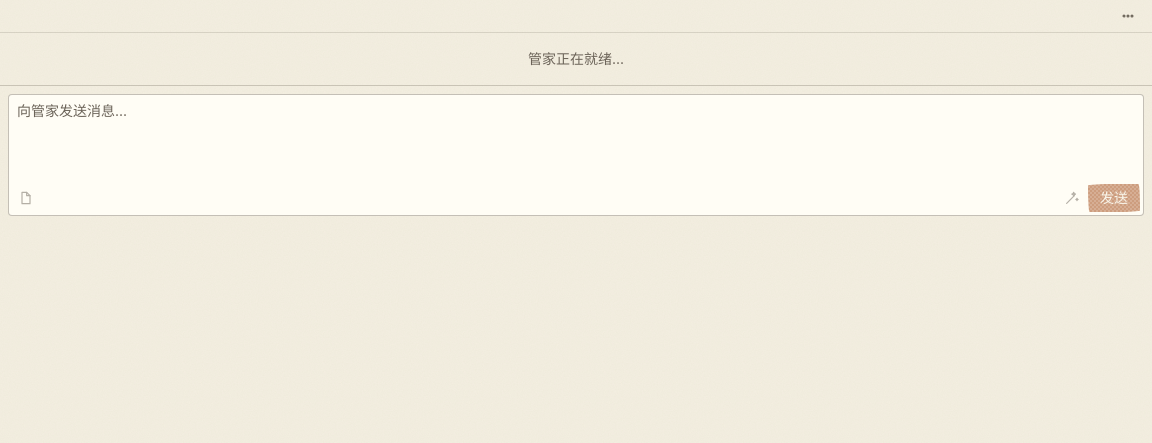
StewardChat v2 — config proposal card › confirm applies the config change and reflects the applied state
Type "把温度调到 0.7" into the text box with placeholder "向管家发送消息..." at (576, 155), box [8, 94, 1144, 216]
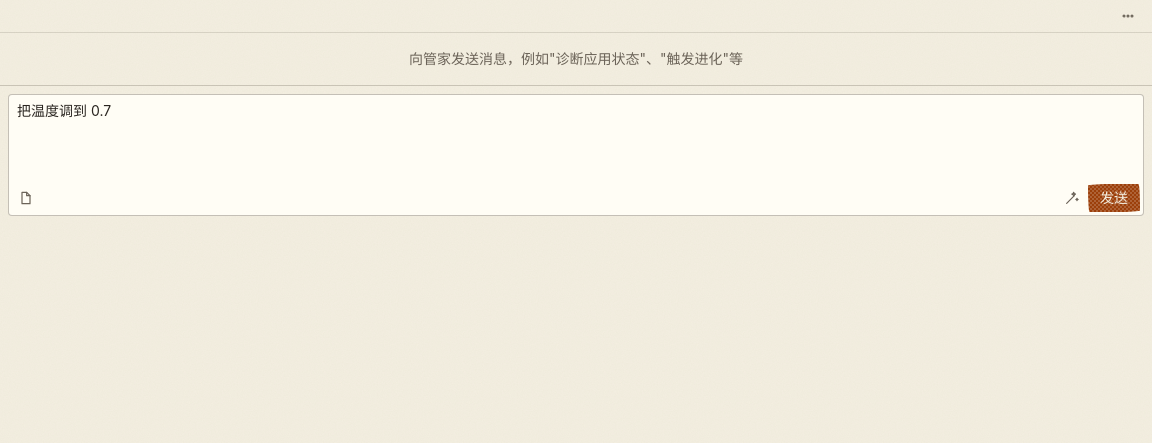
Click the button "发送" at (1114, 198), box [1088, 184, 1140, 212]
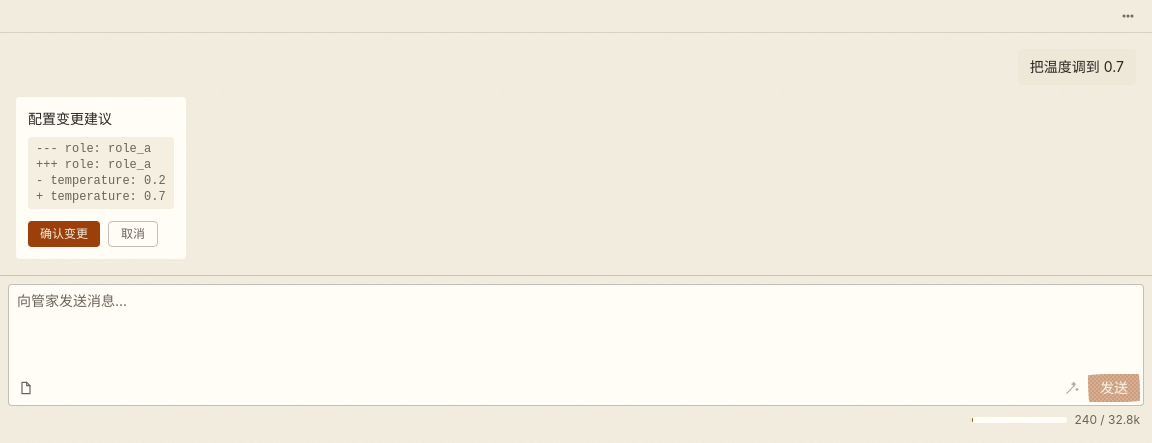
Expected: the text "配置变更建议" is shown, [28, 110, 112, 127]
Click the button "确认变更" at (64, 234), box [28, 221, 100, 247]
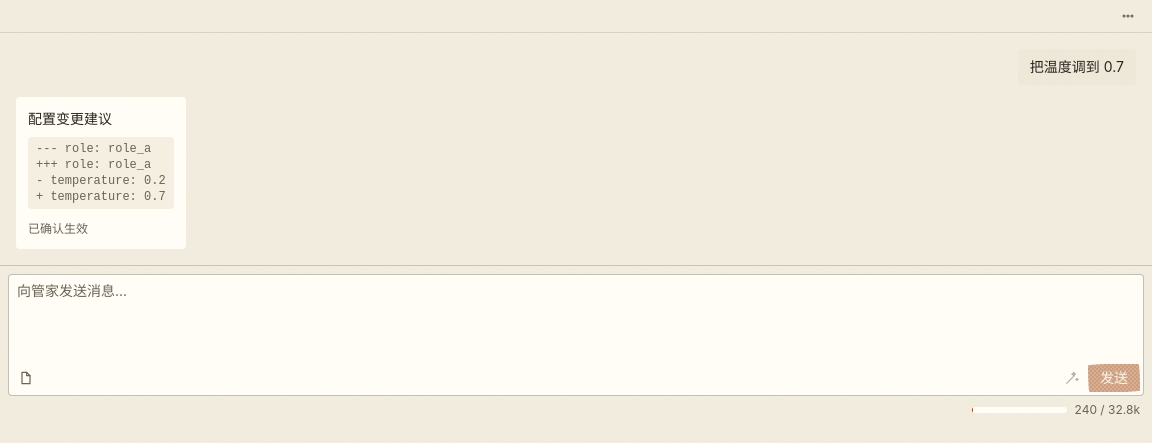
Expected: the text "已确认生效" is shown, [28, 221, 88, 236]
